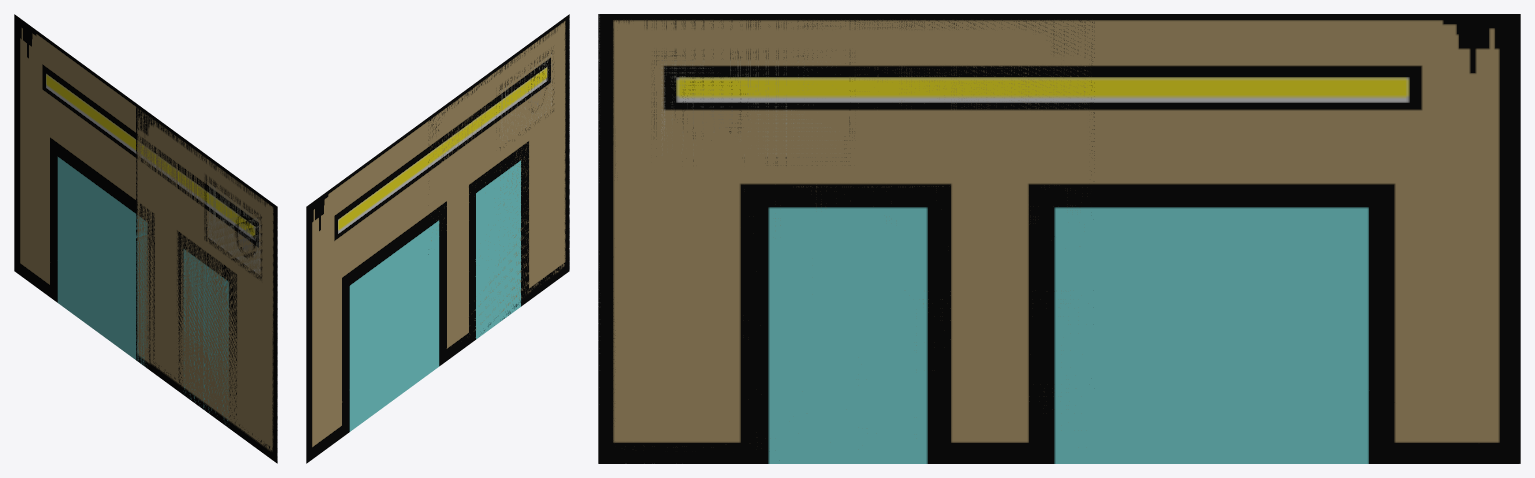
The model's file is building2.gltf.glb.
3 views of the same model, side by side, from view 1: azimuth 30°, elevation 25°; view 2: azimuth 150°, elevation 25°; view 3: azimuth 270°, elevation 25° (orthographic). The views are drawn at different scales.
Visible parts, largest first — view 1: building-front--col, building-side-col; view 2: building-front--col, building-side-col; view 3: building-front--col, building-side-col.
Boxes of the visible parts, left/top/right/bottom form: building-front--col: left=14, top=14, right=277, bottom=462; building-side-col: left=136, top=103, right=277, bottom=463; building-front--col: left=306, top=14, right=569, bottom=463; building-side-col: left=428, top=15, right=569, bottom=355; building-front--col: left=598, top=14, right=1520, bottom=463; building-side-col: left=599, top=14, right=1094, bottom=457.
Bounding box in the file's own units: 2.98e-07 × 3.5 × 6.5.
2 materials, 2 textured.
